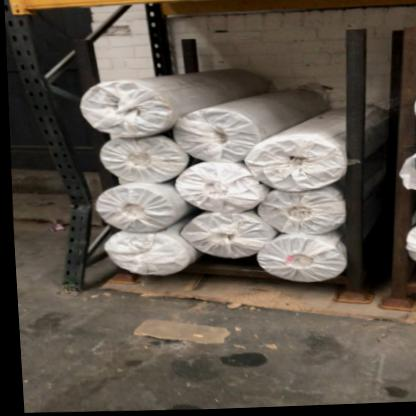vertical_damage: (32, 129, 106, 256)
